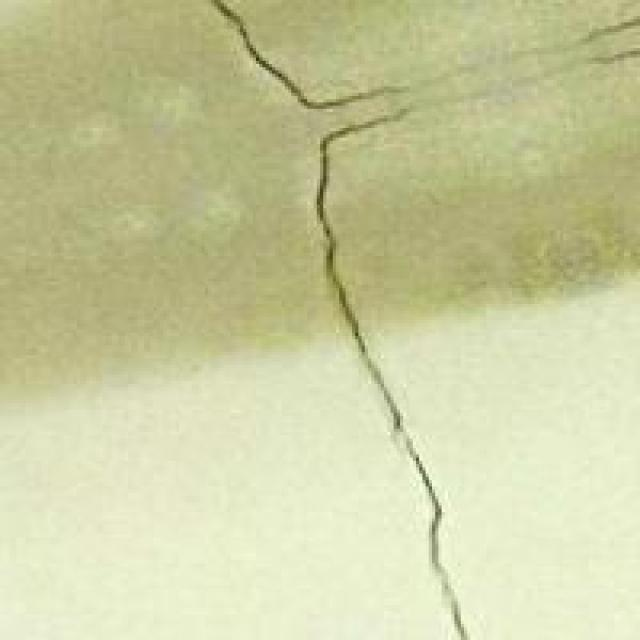Crack: (202, 0, 586, 637)
